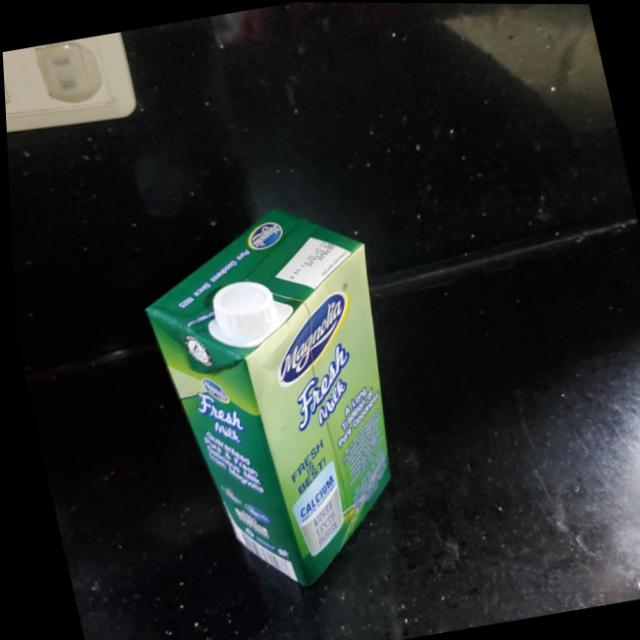milk: (125, 195, 438, 604)
